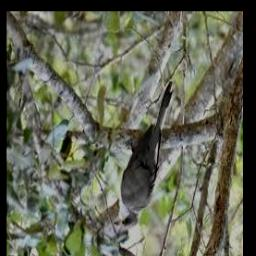Cuckoo: (115, 82, 173, 228)
